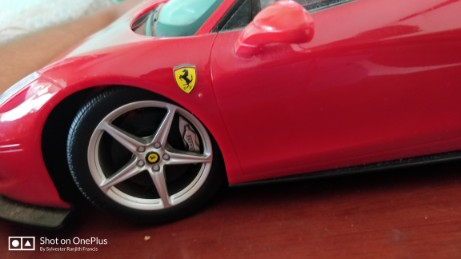unaligned_wheel: (56, 92, 216, 225)
